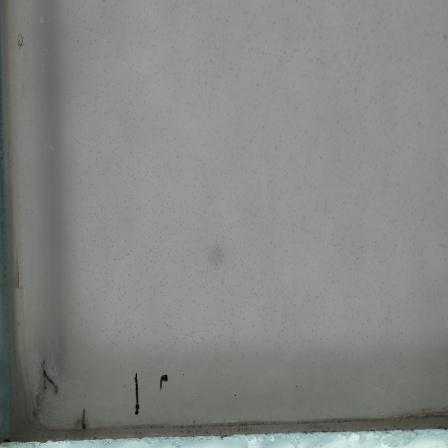Jentik-Nyamuk: (129, 370, 144, 418), (41, 366, 59, 397), (156, 369, 171, 392), (79, 407, 88, 432)
